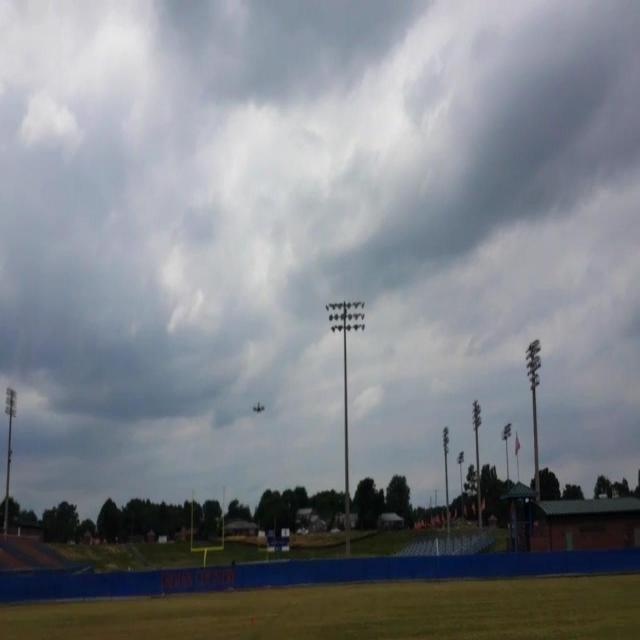UAV: (253, 402, 265, 413)
